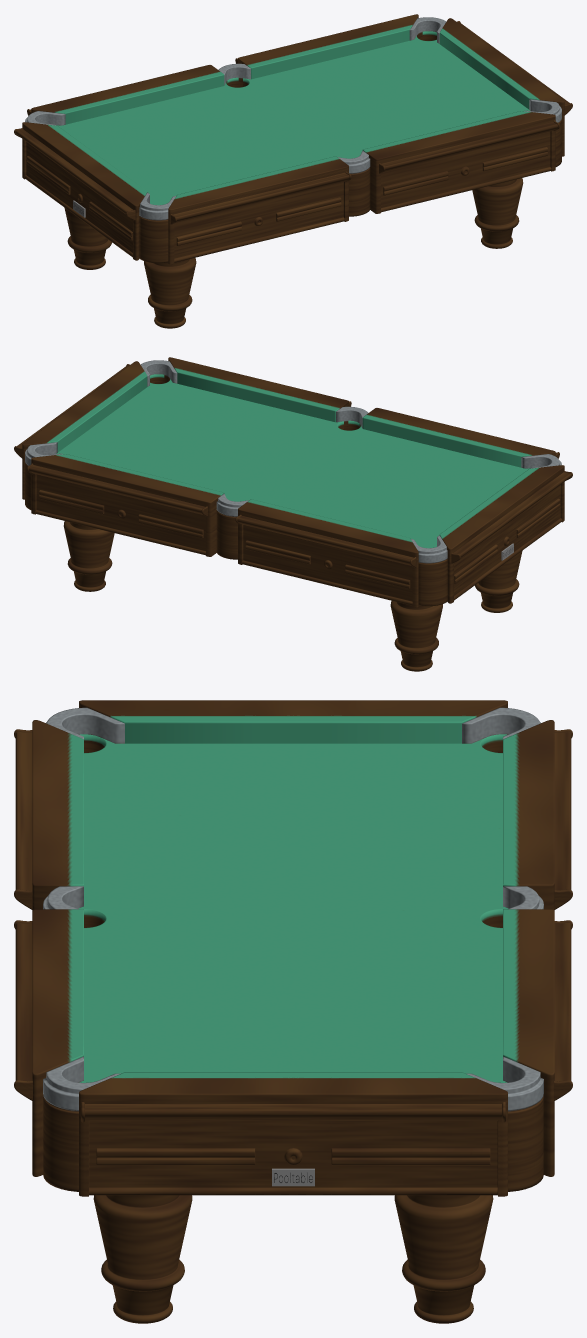
Rendered from pooltable.glb.
The picture shows the model from 3 angles, top to bottom: view 1: azimuth 30°, elevation 25°; view 2: azimuth 150°, elevation 25°; view 3: azimuth 270°, elevation 25°; orthographic projection. The views are drawn at different scales.
Visible parts, largest first — view 1: pooltableWALLS1, pooltableTABLE, pooltableLEG, pooltableHOLES, pooltableWALLS2; view 2: pooltableWALLS1, pooltableTABLE, pooltableLEG, pooltableHOLES, pooltableWALLS2; view 3: pooltableTABLE, pooltableWALLS1, pooltableWALLS2, pooltableLEG, pooltableHOLES, pooltablePLATE.
Boxes of the visible parts, left/top/right/bottom form: pooltableWALLS1: left=22, top=14, right=564, bottom=264; pooltableTABLE: left=56, top=31, right=530, bottom=205; pooltableLEG: left=64, top=178, right=523, bottom=328; pooltableHOLES: left=25, top=17, right=561, bottom=263; pooltableWALLS2: left=14, top=21, right=572, bottom=224; pooltableWALLS1: left=22, top=357, right=564, bottom=607; pooltableTABLE: left=56, top=374, right=530, bottom=548; pooltableLEG: left=63, top=521, right=522, bottom=671; pooltableHOLES: left=25, top=360, right=561, bottom=606; pooltableWALLS2: left=14, top=364, right=572, bottom=567; pooltableTABLE: left=78, top=734, right=508, bottom=1082; pooltableWALLS1: left=32, top=700, right=554, bottom=1196; pooltableWALLS2: left=14, top=729, right=572, bottom=1122; pooltableLEG: left=93, top=1195, right=493, bottom=1323; pooltableHOLES: left=43, top=707, right=543, bottom=1191; pooltablePLATE: left=272, top=1168, right=314, bottom=1186.
Bounding box in the file's own units: 5.24 × 1.59 × 3.02.
Materials: 2 (2 with a texture image).
